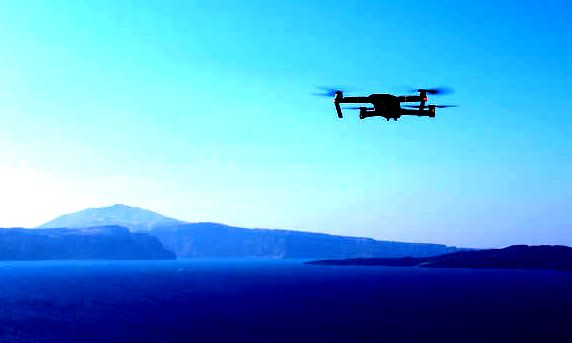Drone: (309, 80, 461, 120)
